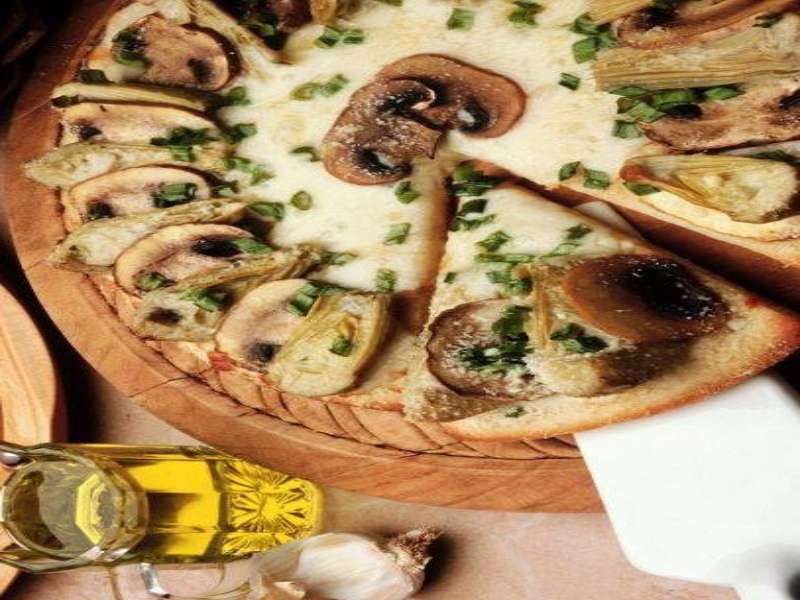champignon: (374, 51, 533, 145), (318, 79, 448, 186), (61, 94, 231, 162), (114, 13, 240, 100), (60, 162, 217, 225), (216, 277, 316, 375), (112, 222, 256, 290)
